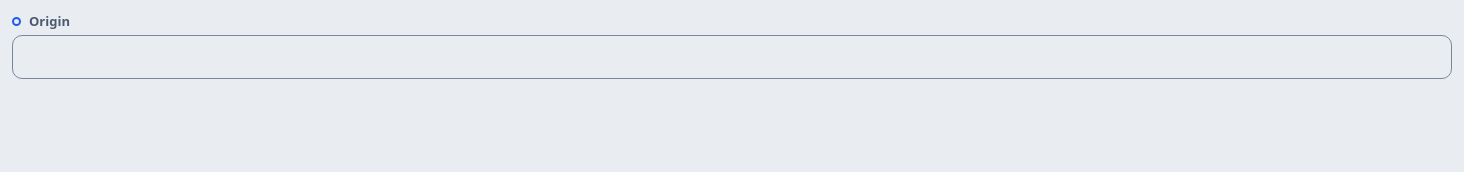
Test case: keyboard and async behaviour › does not reopen the list when a slower request answers after a choice
The width and height of the screenshot is (1464, 172).
Type "Ama" into the dropdown labelled "Origin".
click(732, 57); type("Ama")  # box [12, 35, 1452, 79]
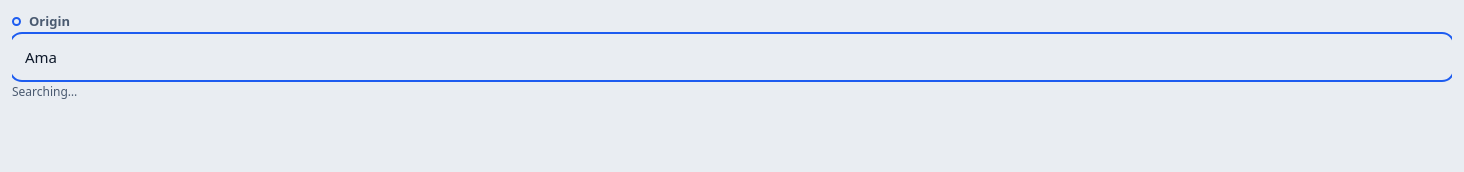
# Backspacing below three letters must clear the "Searching" state of the aborted request.
Clear the dropdown labelled "Origin" at (732, 57), box [12, 35, 1452, 79]
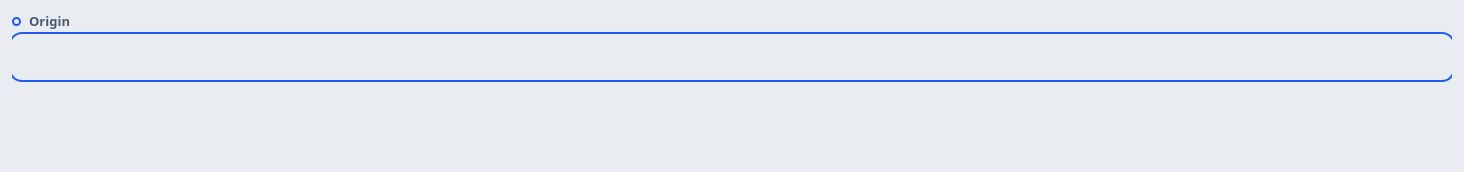
Expected: the text "Searching…" is gone
